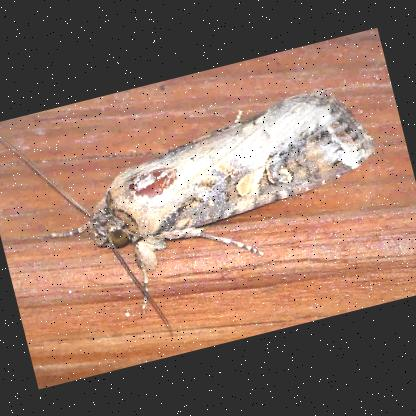Fall Armyworm Moth: (0, 42, 410, 361)
